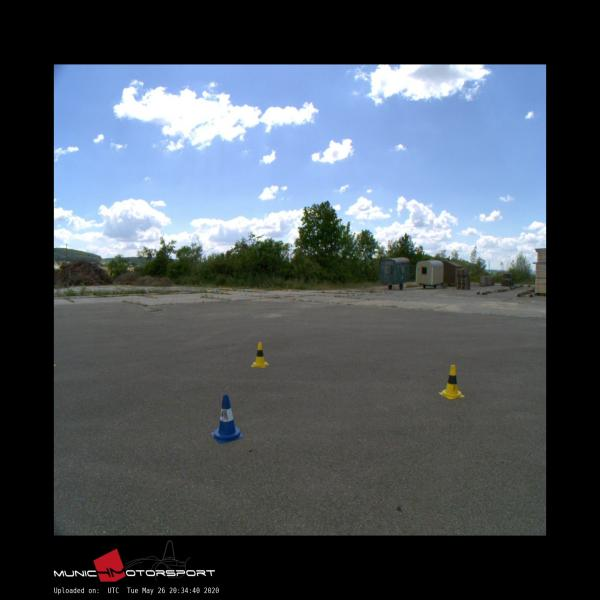blue_cone: (211, 394, 243, 442)
yellow_cone: (438, 364, 464, 399), (250, 342, 268, 368)
